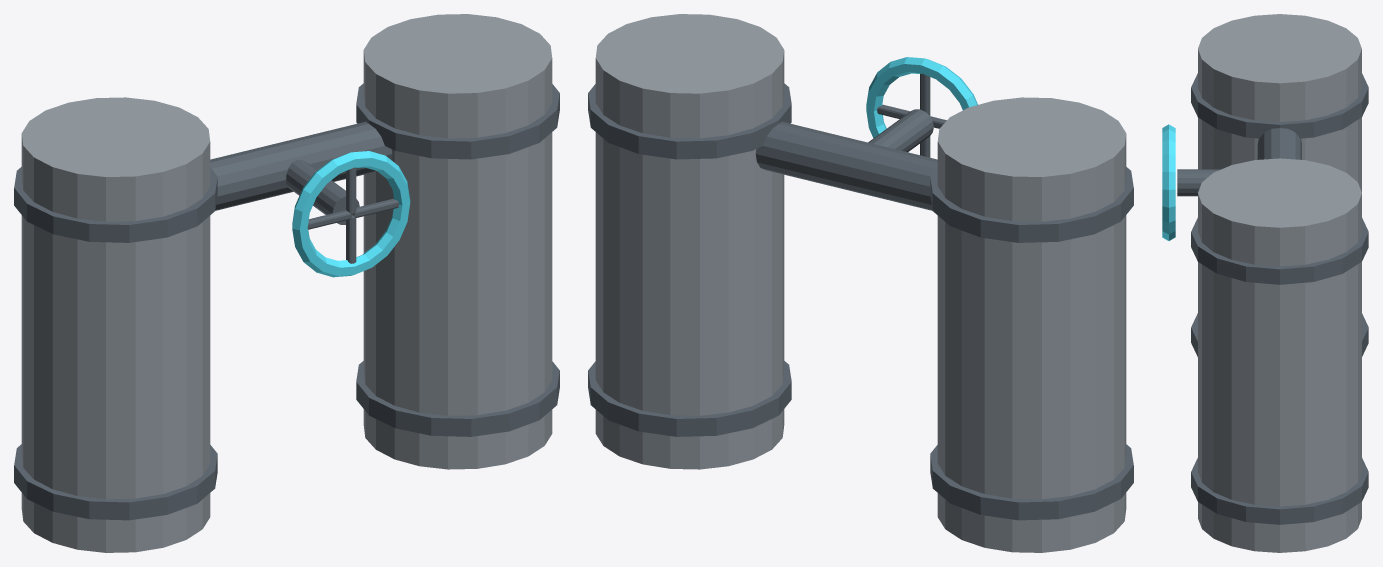
Rendered from 4_Landmark.fbx.
3 views of the same model, side by side, from view 1: azimuth 30°, elevation 25°; view 2: azimuth 150°, elevation 25°; view 3: azimuth 270°, elevation 25° (orthographic). The views are drawn at different scales.
Visible parts, largest first — view 1: Body; view 2: Body; view 3: Body.
Boxes of the visible parts, box(x1,y1,x2,y2) form: Body: box(14, 14, 559, 552); Body: box(588, 14, 1133, 552); Body: box(1162, 14, 1368, 552).
Size of the model in its own units: 3.04 by 2.1 by 1.21.
